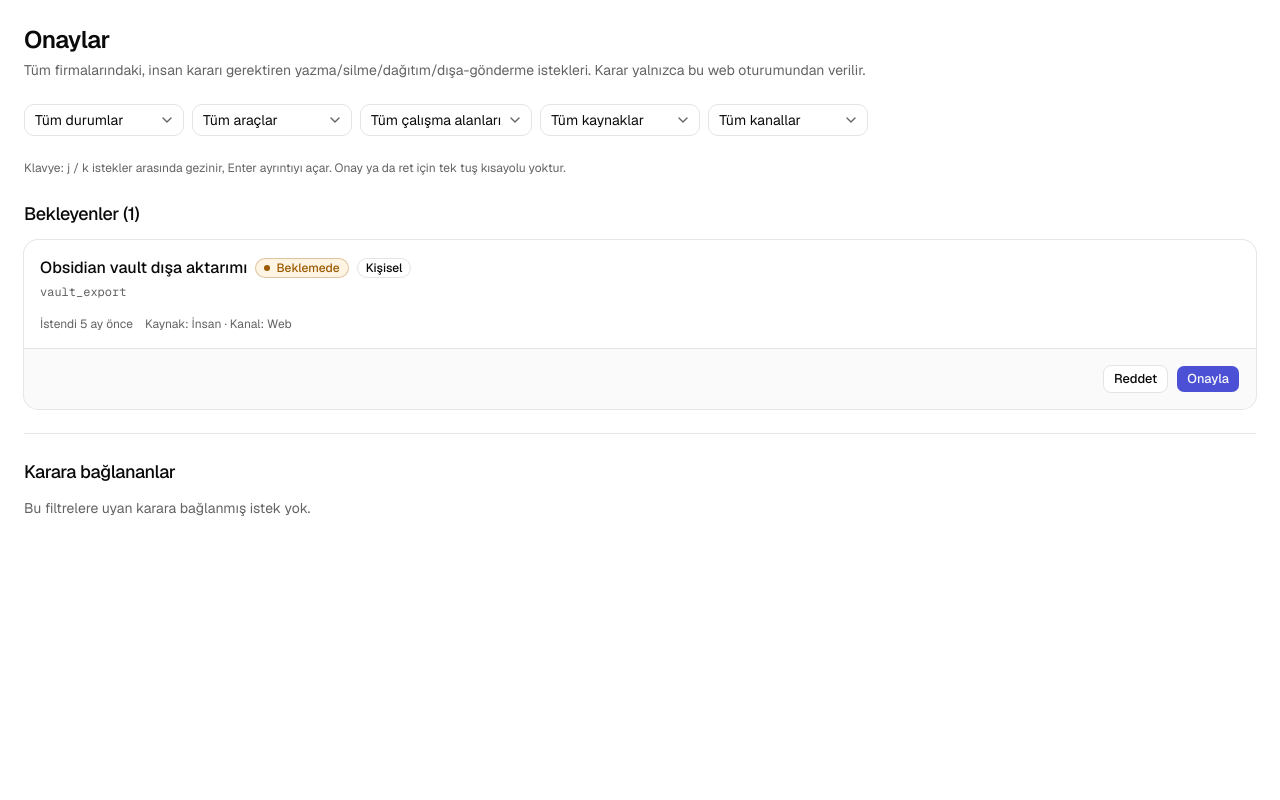
Test case: ApprovalInbox › rejects only after confirmation, and reports a refusal inside the dialog
Expected: the element with test id "approval-r1" is shown, [24, 240, 1256, 409]
Click the button "Reddet".
click(1136, 379)  # box [1103, 365, 1168, 393]
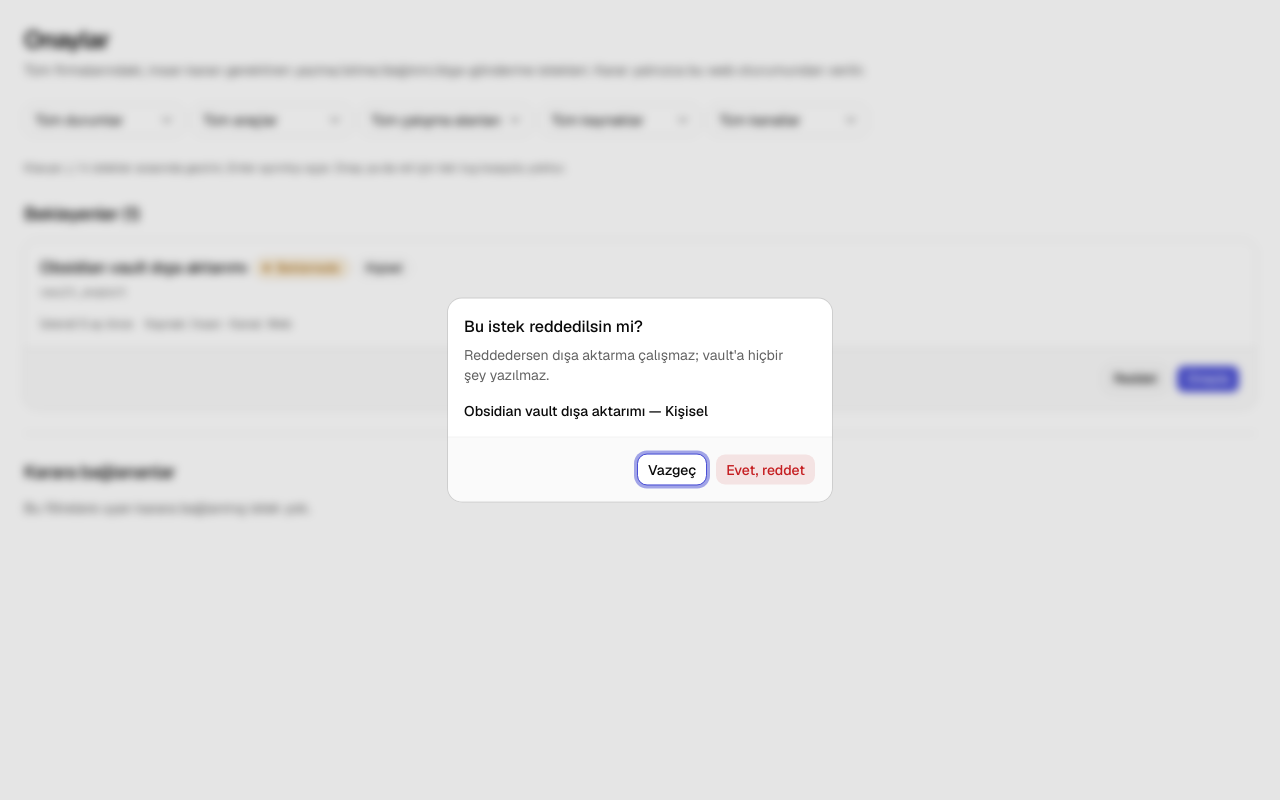
Expected: the dialog shows "Reddedersen dışa aktarma çalışmaz", [464, 346, 784, 384]
Click the button "Evet, reddet".
click(766, 470)  # box [715, 454, 816, 486]
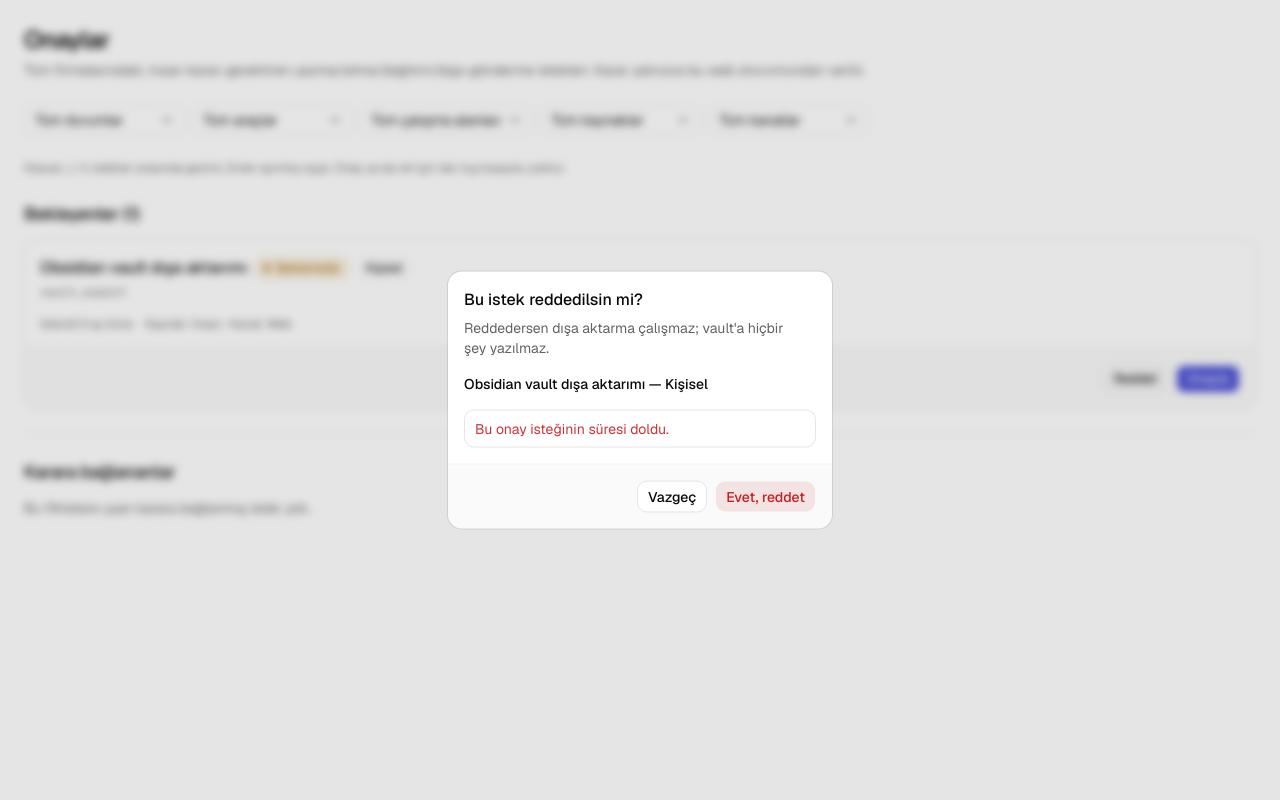
Expected: the message reads "Bu onay isteğinin süresi doldu.", [475, 420, 669, 438]
Click the button "Evet, reddet".
click(766, 496)  # box [715, 480, 816, 512]
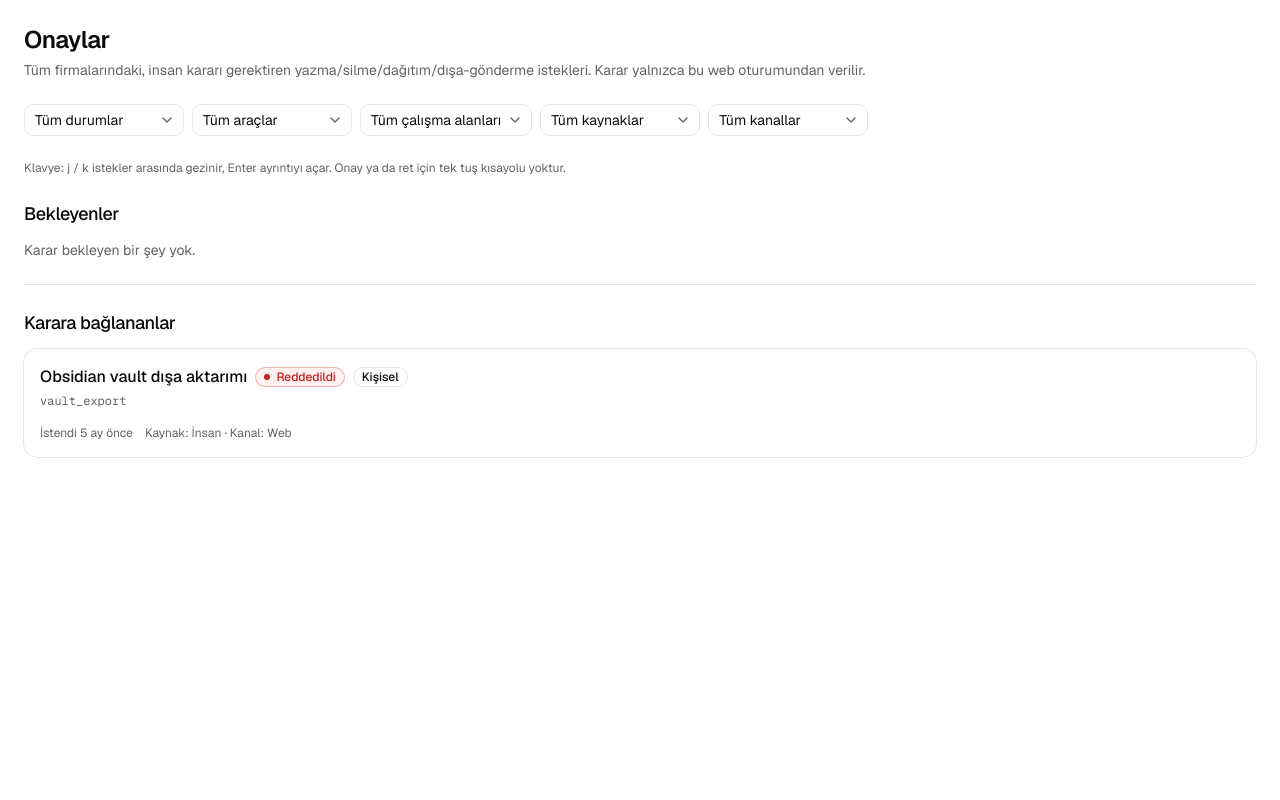
Expected: the text "Reddedildi" is shown, [255, 367, 345, 387]
